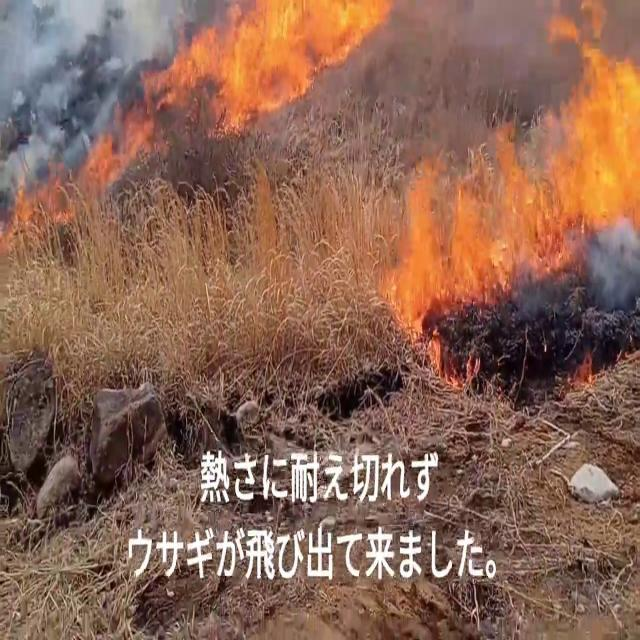Fire: (380, 0, 640, 345), (156, 1, 404, 115), (8, 121, 149, 246)
Smoke: (0, 0, 177, 167)
